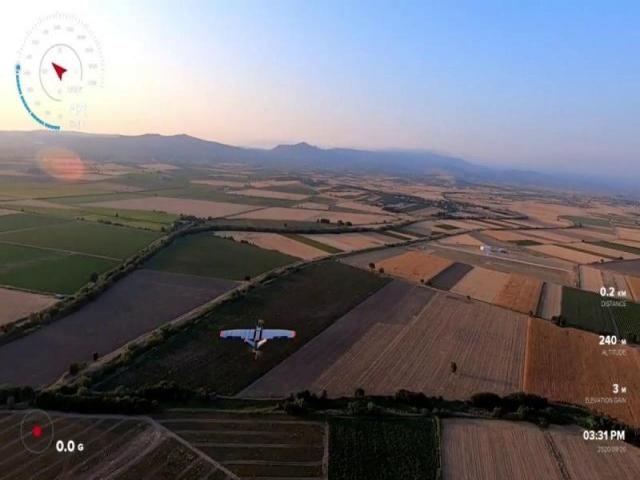hedef: (217, 308, 300, 362)
